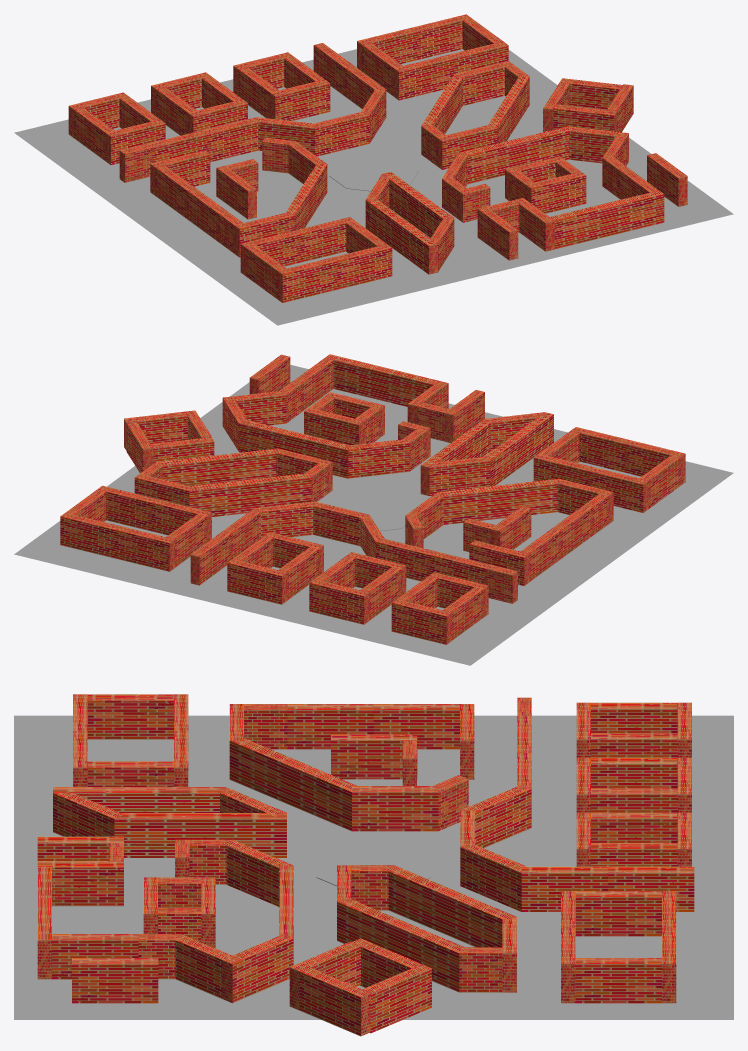
File: Level_01_2.fbx
The picture shows the model from 3 angles, top to bottom: view 1: azimuth 30°, elevation 25°; view 2: azimuth 150°, elevation 25°; view 3: azimuth 270°, elevation 25°; orthographic projection. The views are drawn at different scales.
Parts seen in each view (by area): view 1: pPlane1, longwall_09, longwall_08, longwall_013, pCylinder1, mediumWall_053, mediumWall_039, mediumWall_033, longwall_010, mediumWall_054, mediumWall_083, mediumWall_028 (+58 smaller); view 2: pPlane1, longwall_014, longwall_04, longwall_05, longwall_09, longwall_08, longwall_013, mediumWall_03, mediumWall_037, mediumWall_073, mediumWall_035, mediumWall_043 (+59 smaller); view 3: pPlane1, longwall_010, longwall_014, longwall_04, longwall_05, mediumWall_055, mediumWall_042, mediumWall_046, mediumWall_084, mediumWall_077, longwall_013, mediumWall_079 (+52 smaller).
Boxes of the visible parts, x1,y1,x2,y2 form: pPlane1: [14, 49, 733, 325]; longwall_09: [550, 190, 664, 249]; longwall_08: [459, 126, 572, 184]; longwall_013: [365, 198, 437, 274]; pCylinder1: [329, 154, 418, 191]; mediumWall_053: [277, 257, 337, 302]; mediumWall_039: [393, 54, 453, 100]; mediumWall_033: [270, 79, 330, 120]; longwall_010: [383, 172, 453, 237]; mediumWall_054: [332, 244, 392, 289]; mediumWall_083: [526, 171, 586, 213]; mediumWall_028: [310, 111, 369, 156]; pPlane1: [14, 364, 733, 665]; longwall_014: [437, 478, 558, 524]; longwall_04: [189, 473, 311, 516]; longwall_05: [156, 448, 280, 486]; longwall_09: [325, 354, 438, 406]; longwall_08: [239, 420, 353, 478]; longwall_013: [484, 412, 553, 486]; mediumWall_03: [346, 439, 409, 478]; mediumWall_037: [227, 559, 287, 604]; mediumWall_073: [391, 599, 451, 644]; mediumWall_035: [309, 579, 369, 624]; mediumWall_043: [115, 526, 174, 571]; pPlane1: [14, 715, 733, 1019]; longwall_010: [114, 813, 286, 857]; longwall_014: [229, 736, 356, 831]; longwall_04: [385, 865, 516, 947]; longwall_05: [337, 897, 467, 992]; mediumWall_055: [87, 694, 173, 739]; mediumWall_042: [575, 958, 661, 1003]; mediumWall_046: [575, 891, 661, 936]; mediumWall_084: [72, 958, 158, 1003]; mediumWall_077: [352, 786, 438, 831]; longwall_013: [53, 787, 225, 812]; mediumWall_079: [331, 734, 417, 779].
Size of the model in its own units: 52.9 by 3.62 by 50.
